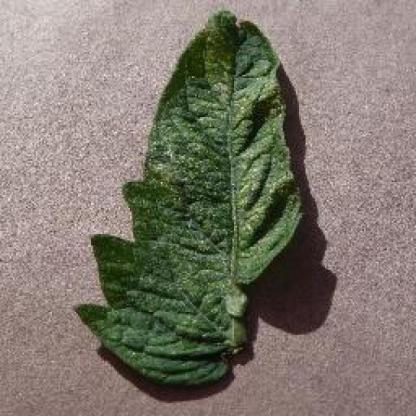Tomato_Spider_Mites: (75, 14, 298, 382)
